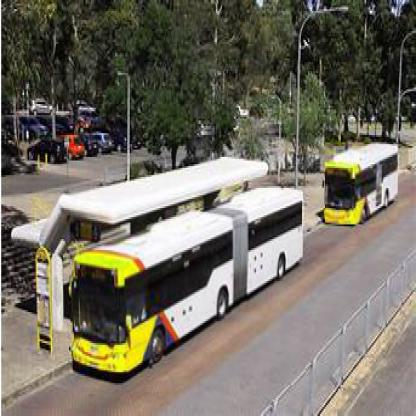bus: (70, 182, 307, 388), (325, 144, 399, 228)
